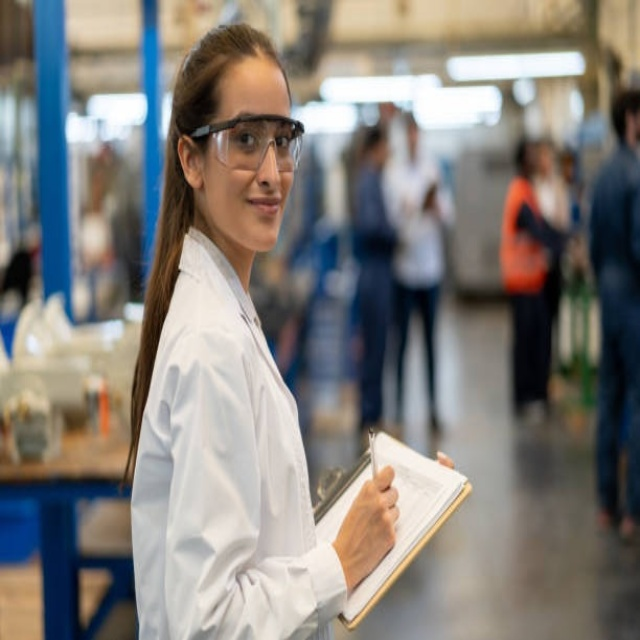Gafas: (186, 117, 306, 173)
Sin_guantes: (334, 467, 400, 589)
Sin_mascara: (237, 186, 290, 246)
